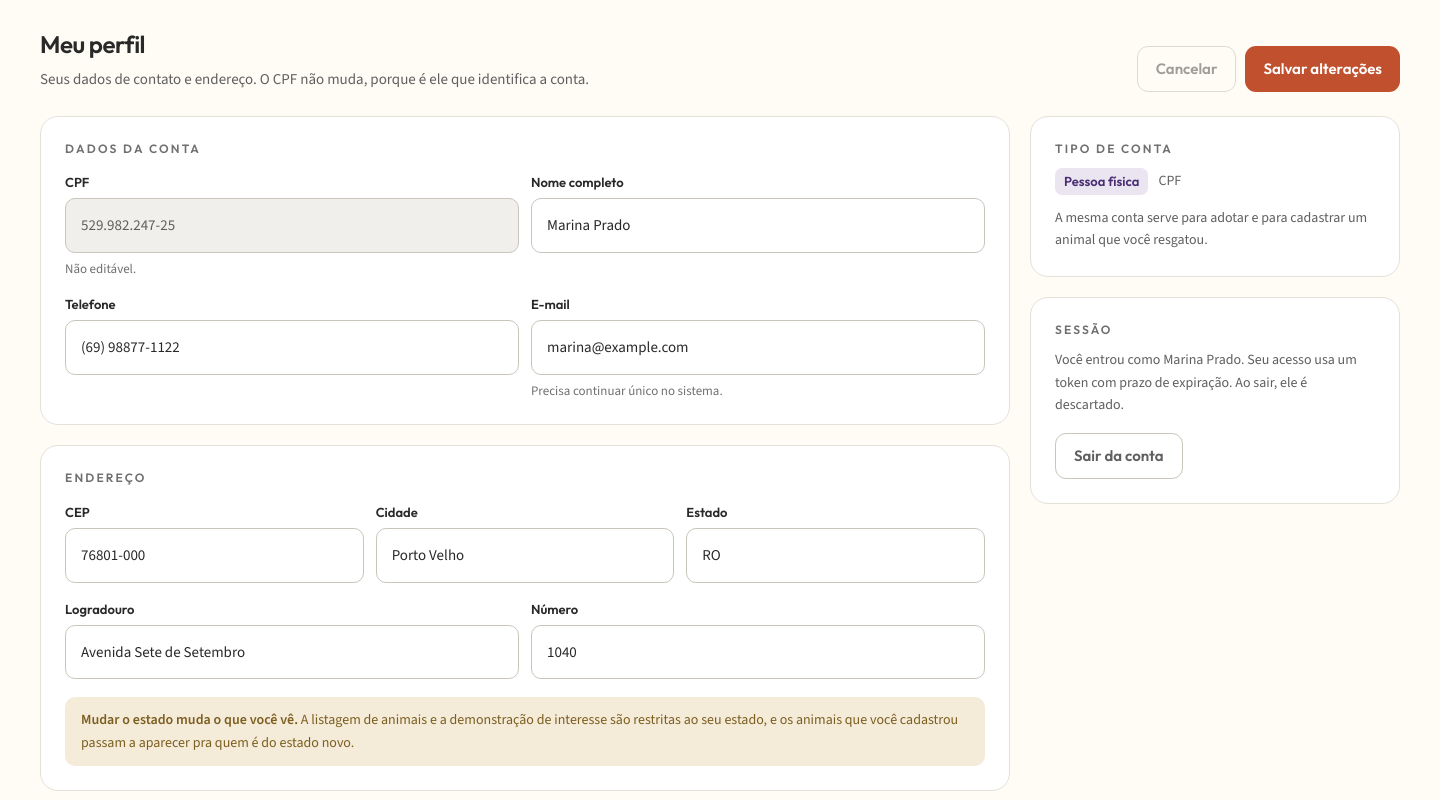
Test: salvar os dados › com a sessão no sessionStorage, o nome novo fica lá
Expected: the button "Salvar alterações" is shown, [1245, 46, 1400, 92]
Replace the text in the field labelled "Nome completo" with "Marina P." at (758, 225), box [531, 198, 985, 253]
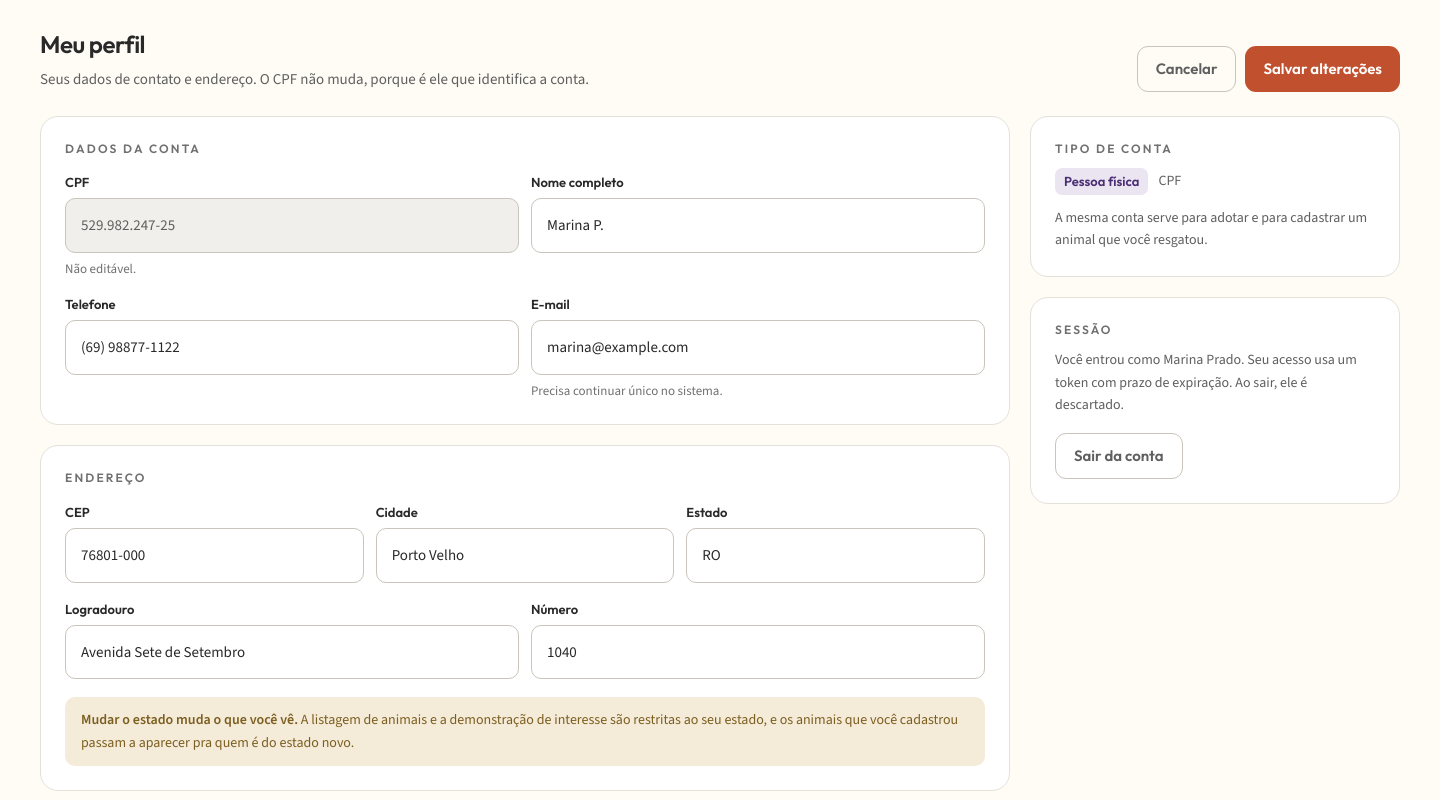
Click the button "Salvar alterações" at (1323, 68), box [1245, 46, 1400, 92]
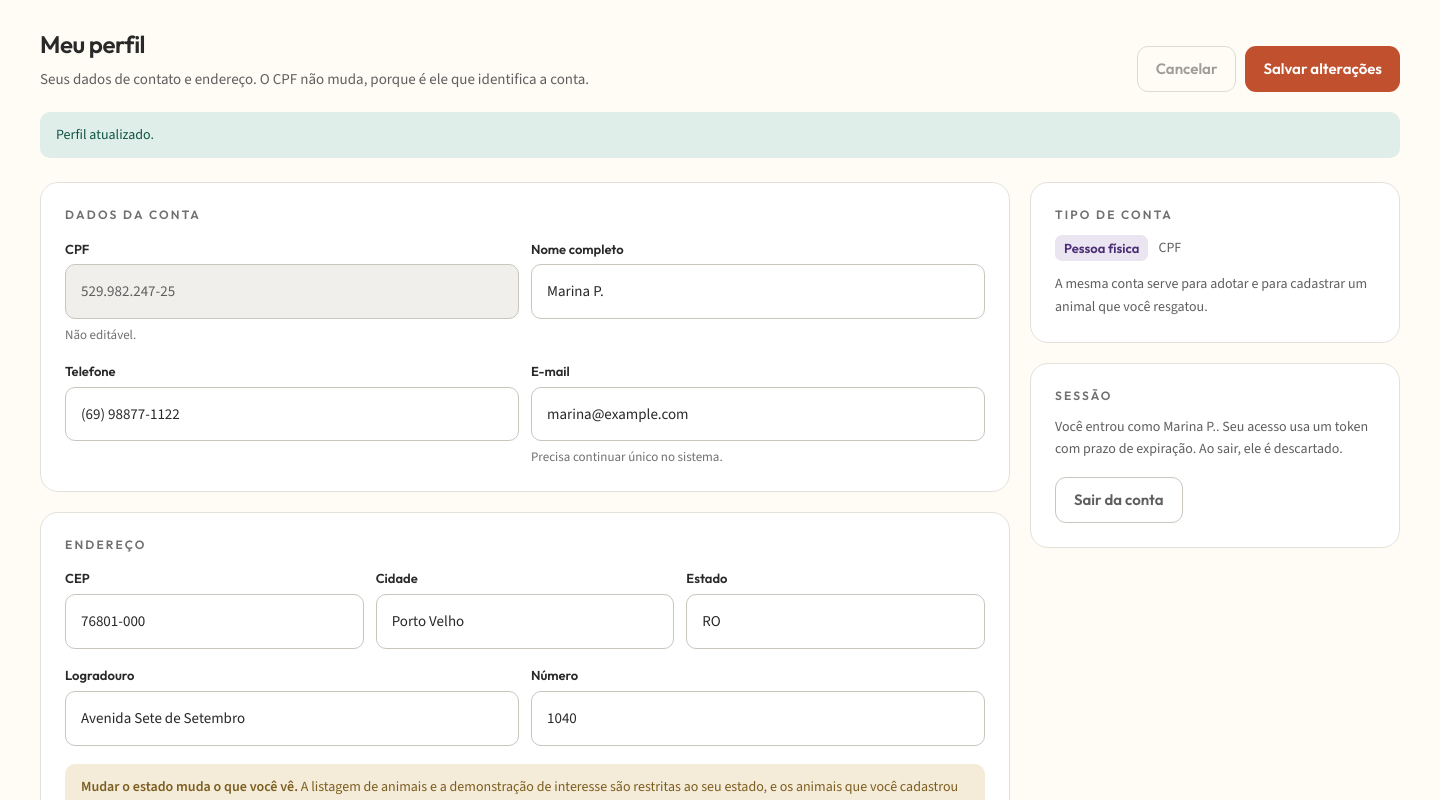
Expected: the text "Perfil atualizado." is shown, [40, 112, 1400, 158]
